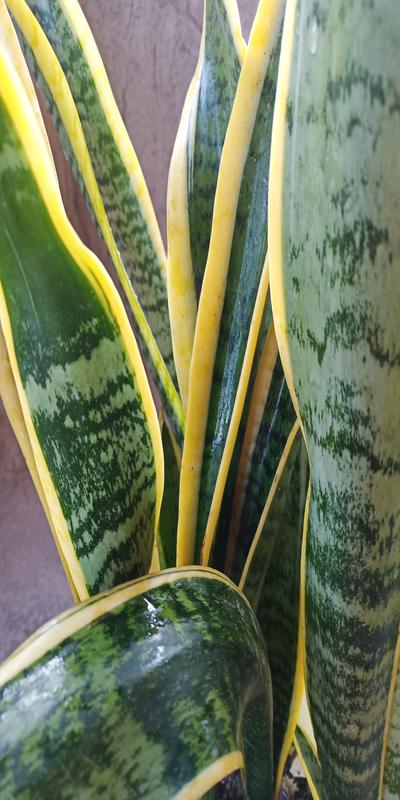Snake plant: (40, 11, 368, 782)
